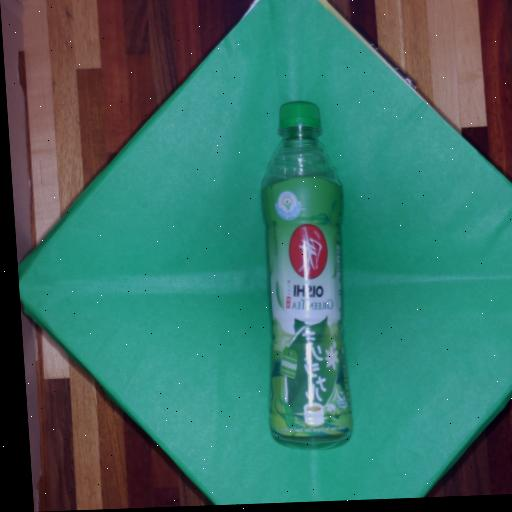bottle: (262, 102, 350, 446)
